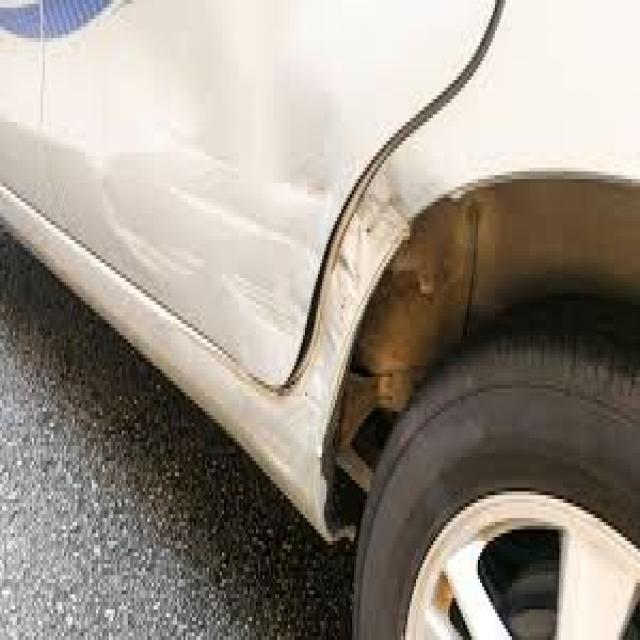minor: (298, 109, 412, 394)
